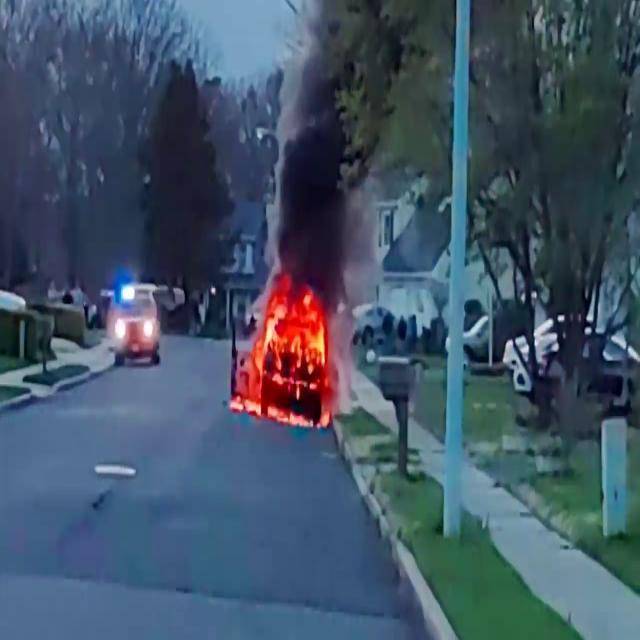Fire: (242, 281, 334, 423)
Smoke: (271, 3, 399, 306)
